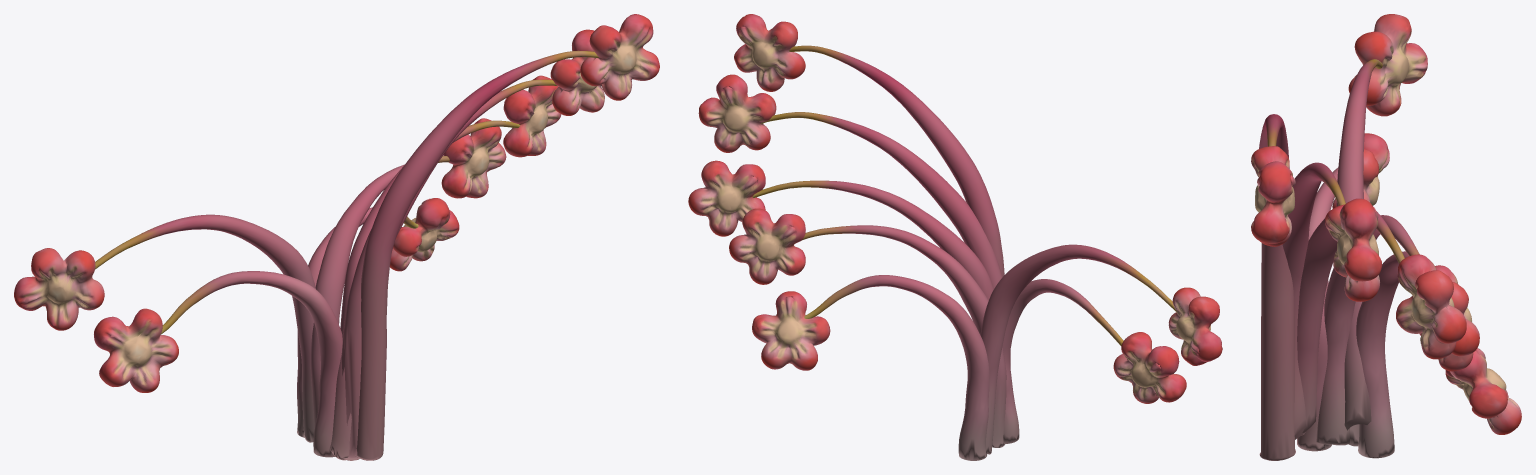
The picture shows the model from 3 angles, left to right: view 1: azimuth 30°, elevation 25°; view 2: azimuth 150°, elevation 25°; view 3: azimuth 270°, elevation 25°; orthographic projection. The views are drawn at different scales.
Parts seen in each view (by area): view 1: LOD 2_6720493226539483728_d61aa4d54b65f9a4b9f71cf390cbd75f; view 2: LOD 2_6720493226539483728_d61aa4d54b65f9a4b9f71cf390cbd75f; view 3: LOD 2_6720493226539483728_d61aa4d54b65f9a4b9f71cf390cbd75f.
Boxes of the visible parts, bbox=[...] form: LOD 2_6720493226539483728_d61aa4d54b65f9a4b9f71cf390cbd75f: bbox=[14, 14, 659, 460]; LOD 2_6720493226539483728_d61aa4d54b65f9a4b9f71cf390cbd75f: bbox=[688, 14, 1222, 460]; LOD 2_6720493226539483728_d61aa4d54b65f9a4b9f71cf390cbd75f: bbox=[1251, 14, 1521, 460].
Bounding box in the file's own units: 13.85 × 8.6 × 4.66.
